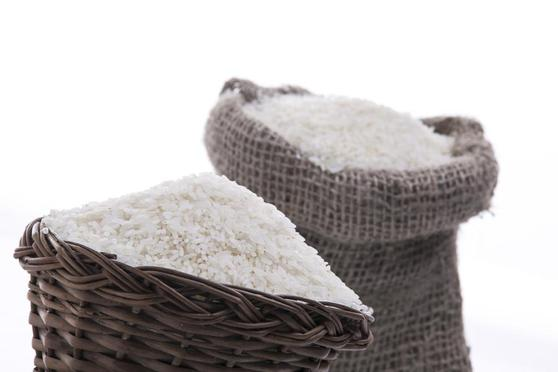rice: (68, 173, 374, 322), (248, 68, 456, 186)
